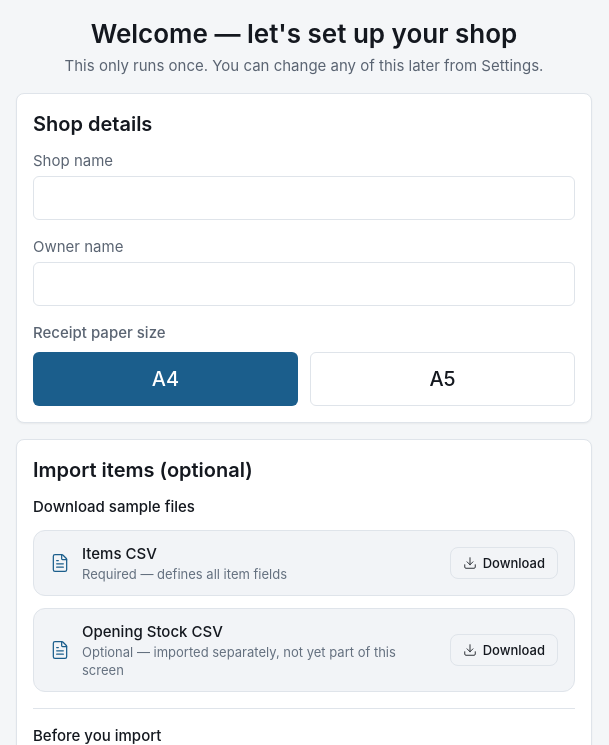
Scenario: SetupWizardPage › setup:finish itself failing (e.g. validation) keeps the wizard open and shows the error
The width and height of the screenshot is (609, 745).
Type "Malakand AC & Fridge Repair" into the field labelled "Shop name" at (304, 198), box [33,176,575,220]
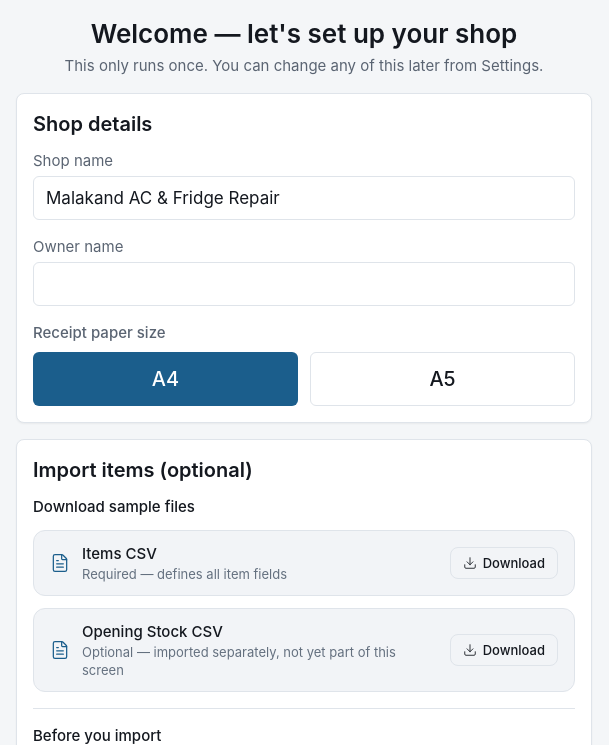
Type "Zahid Khan" into the field labelled "Owner name" at (304, 284), box [33,262,575,306]
(page scrolled)
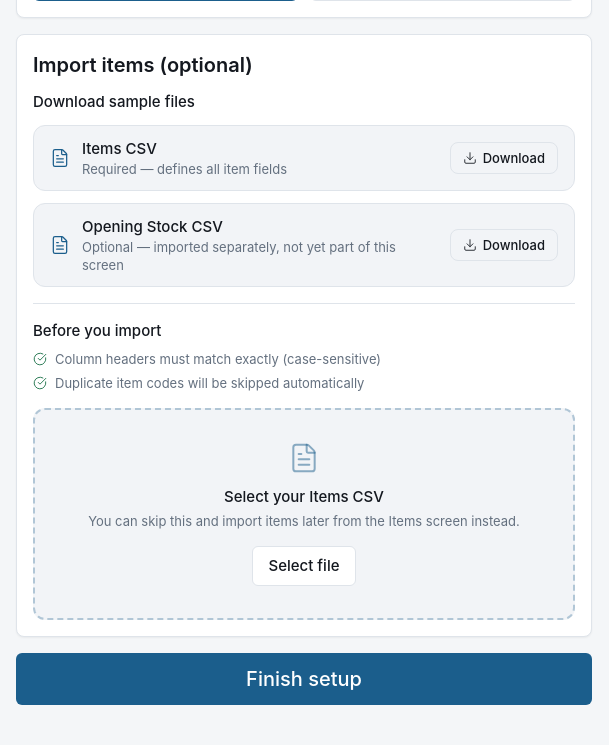
Click the button "Finish setup" at (304, 679), box [16,653,592,705]
(page scrolled)
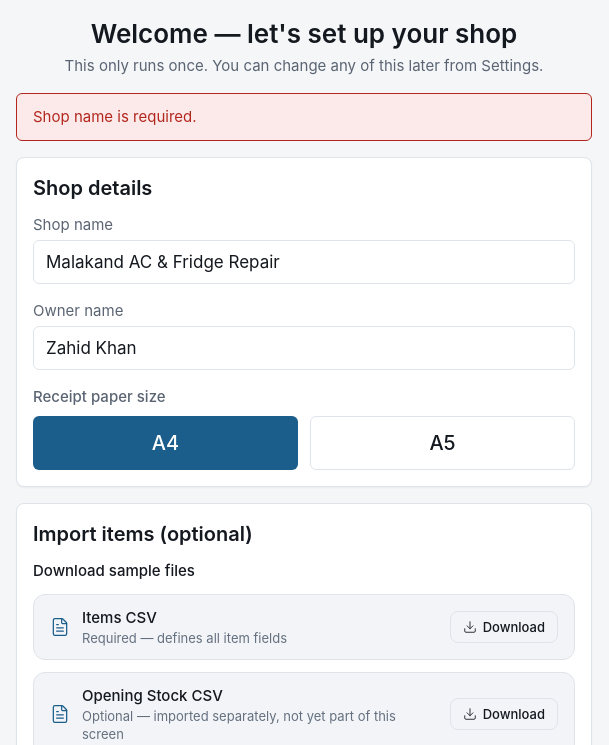
expect the text "Shop name is required." is shown: met, box [33,106,196,128]
